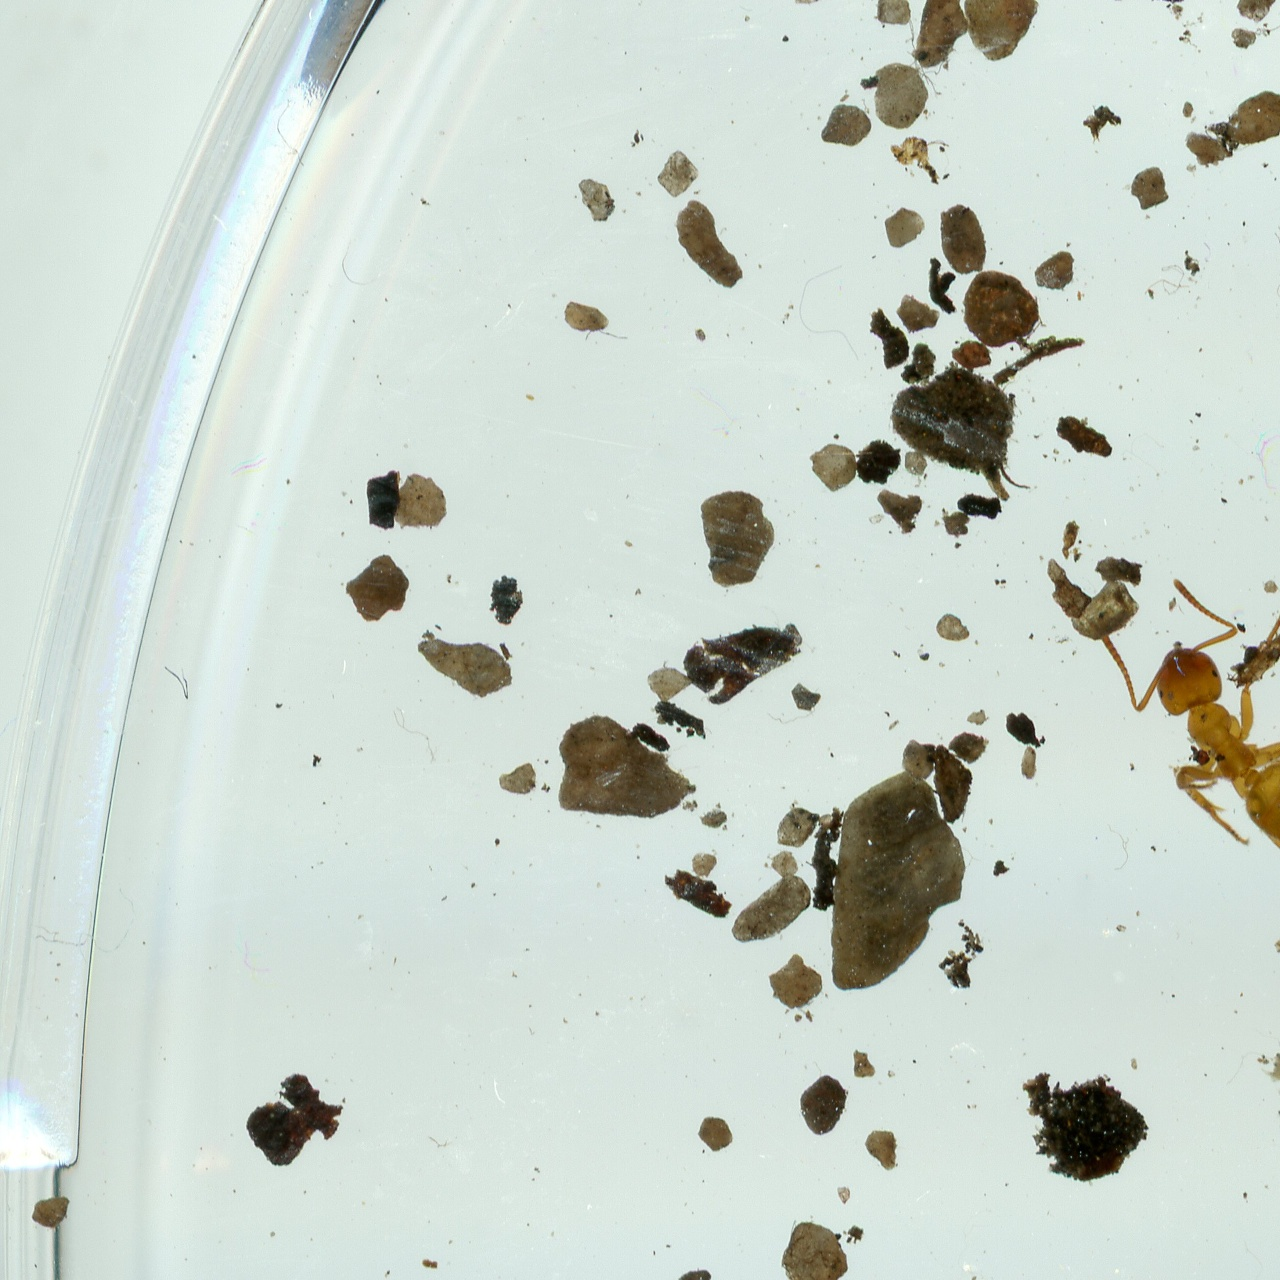arthropod: (1076, 526, 1280, 910), (1231, 1083, 1280, 1280)
